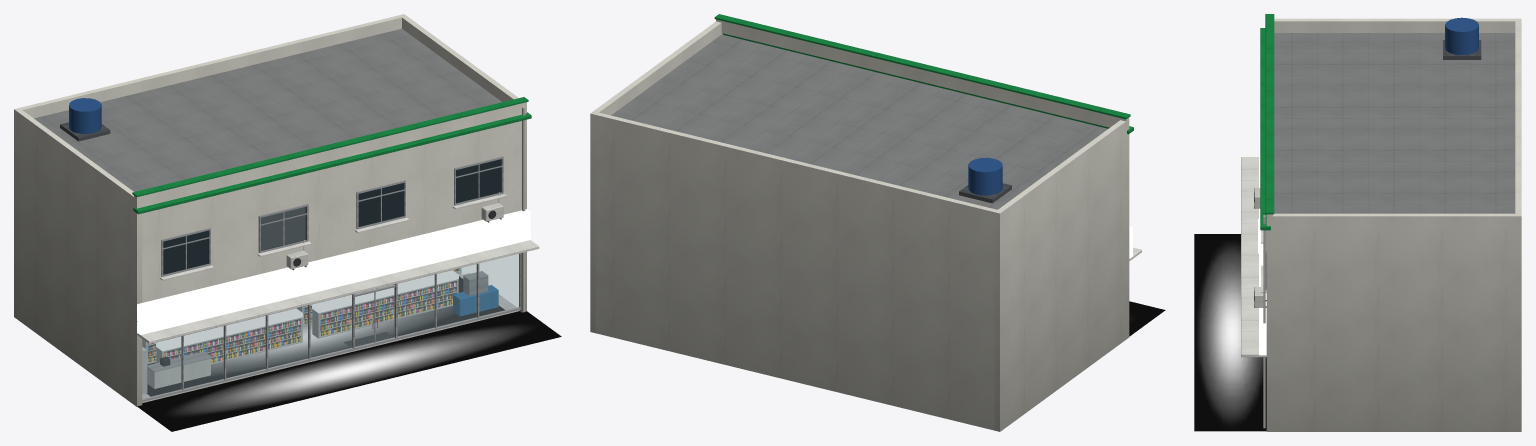
The model's file is LM_SHOP_FamilyMart.glb.
3 views of the same model, side by side, from view 1: azimuth 30°, elevation 25°; view 2: azimuth 150°, elevation 25°; view 3: azimuth 270°, elevation 25° (orthographic). The views are drawn at different scales.
Parts seen in each view (by area): view 1: LM_SHOP_FamilyMart | Render wall, LM_SHOP_FamilyMart | Painted panel, LM_SHOP_FamilyMart | Shopfront glass, LM_SHOP_FamilyMart | Night wash, LM_SHOP_FamilyMart | Night glow sign, LM_SHOP_FamilyMart | Satin metal, LM_SHOP_FamilyMart | Upper floor glass, LM_SHOP_FamilyMart | Night glow shelves, LM_SHOP_FamilyMart | Night glow LED, LM_SHOP_FamilyMart | Plastic, LM_SHOP_FamilyMart | Floor tiles; view 2: LM_SHOP_FamilyMart | Render wall, LM_SHOP_FamilyMart | Painted panel, LM_SHOP_FamilyMart | Plastic, LM_SHOP_FamilyMart | Night wash; view 3: LM_SHOP_FamilyMart | Render wall, LM_SHOP_FamilyMart | Painted panel, LM_SHOP_FamilyMart | Night wash, LM_SHOP_FamilyMart | Plastic, LM_SHOP_FamilyMart | Night glow sign, LM_SHOP_FamilyMart | Satin metal.
Part boxes in pixels (x1=…): LM_SHOP_FamilyMart | Render wall: x1=14, y1=14, x2=526, y2=406; LM_SHOP_FamilyMart | Painted panel: x1=34, y1=28, x2=539, y2=394; LM_SHOP_FamilyMart | Shopfront glass: x1=142, y1=254, x2=518, y2=398; LM_SHOP_FamilyMart | Night wash: x1=137, y1=276, x2=561, y2=431; LM_SHOP_FamilyMart | Night glow sign: x1=137, y1=209, x2=530, y2=351; LM_SHOP_FamilyMart | Satin metal: x1=60, y1=122, x2=520, y2=401; LM_SHOP_FamilyMart | Upper floor glass: x1=163, y1=159, x2=501, y2=274; LM_SHOP_FamilyMart | Night glow shelves: x1=147, y1=268, x2=459, y2=363; LM_SHOP_FamilyMart | Night glow LED: x1=261, y1=207, x2=518, y2=307; LM_SHOP_FamilyMart | Plastic: x1=69, y1=98, x2=525, y2=366; LM_SHOP_FamilyMart | Floor tiles: x1=142, y1=268, x2=519, y2=402; LM_SHOP_FamilyMart | Render wall: x1=590, y1=19, x2=1129, y2=431; LM_SHOP_FamilyMart | Painted panel: x1=611, y1=14, x2=1141, y2=261; LM_SHOP_FamilyMart | Plastic: x1=968, y1=157, x2=1002, y2=195; LM_SHOP_FamilyMart | Night wash: x1=1129, y1=301, x2=1165, y2=336; LM_SHOP_FamilyMart | Render wall: x1=1266, y1=18, x2=1521, y2=431; LM_SHOP_FamilyMart | Painted panel: x1=1241, y1=14, x2=1515, y2=357; LM_SHOP_FamilyMart | Night wash: x1=1194, y1=234, x2=1266, y2=431; LM_SHOP_FamilyMart | Plastic: x1=1254, y1=17, x2=1478, y2=428; LM_SHOP_FamilyMart | Night glow sign: x1=1258, y1=127, x2=1266, y2=355; LM_SHOP_FamilyMart | Satin metal: x1=1254, y1=40, x2=1481, y2=307.
Size of the model in its own units: 22.2 by 12 by 15.4.
12 materials, 6 textured.
